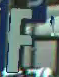Parking: (8, 6, 50, 76)
